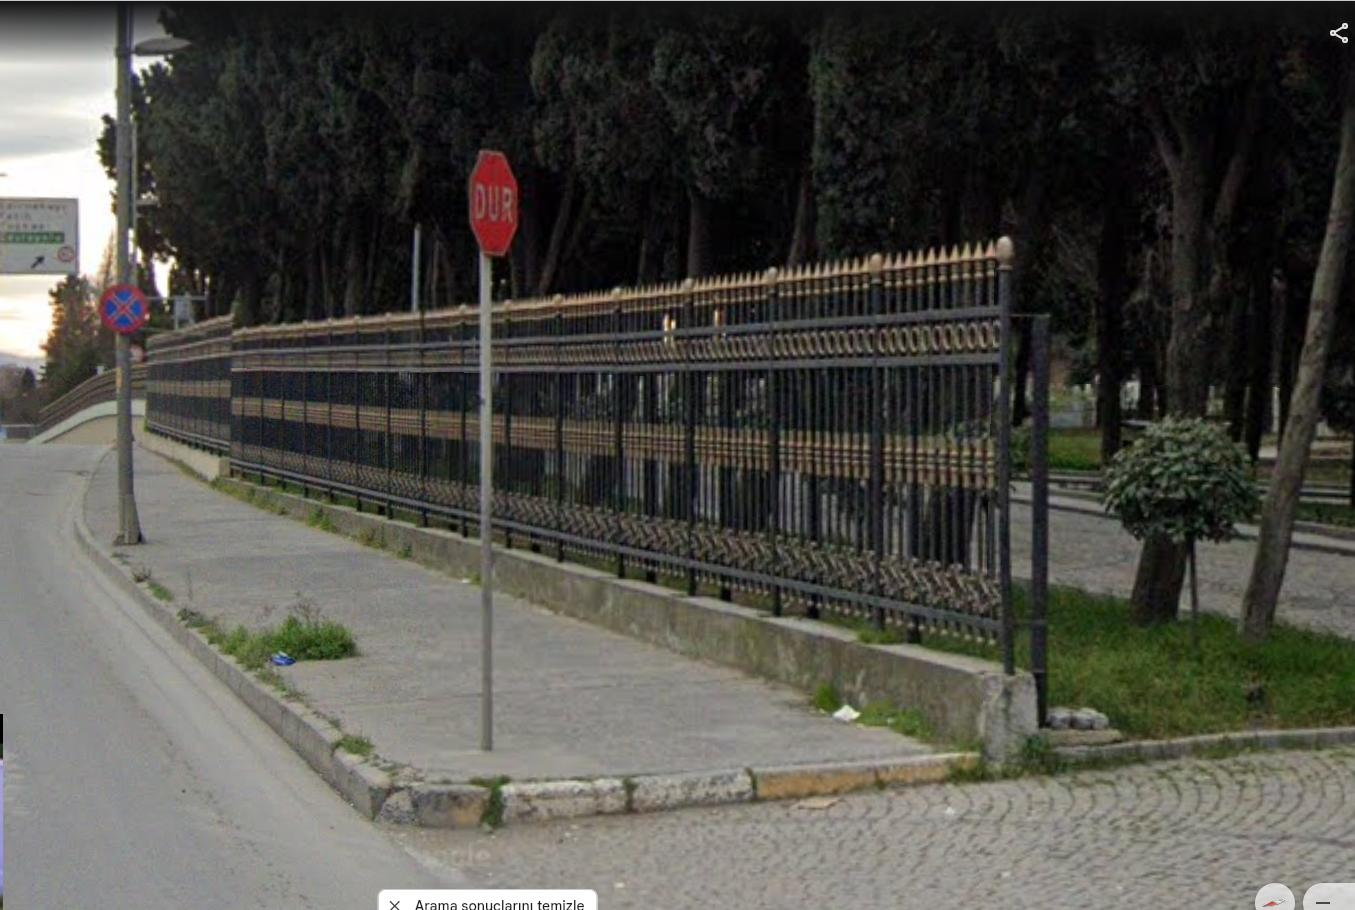stop: (467, 144, 525, 258)
